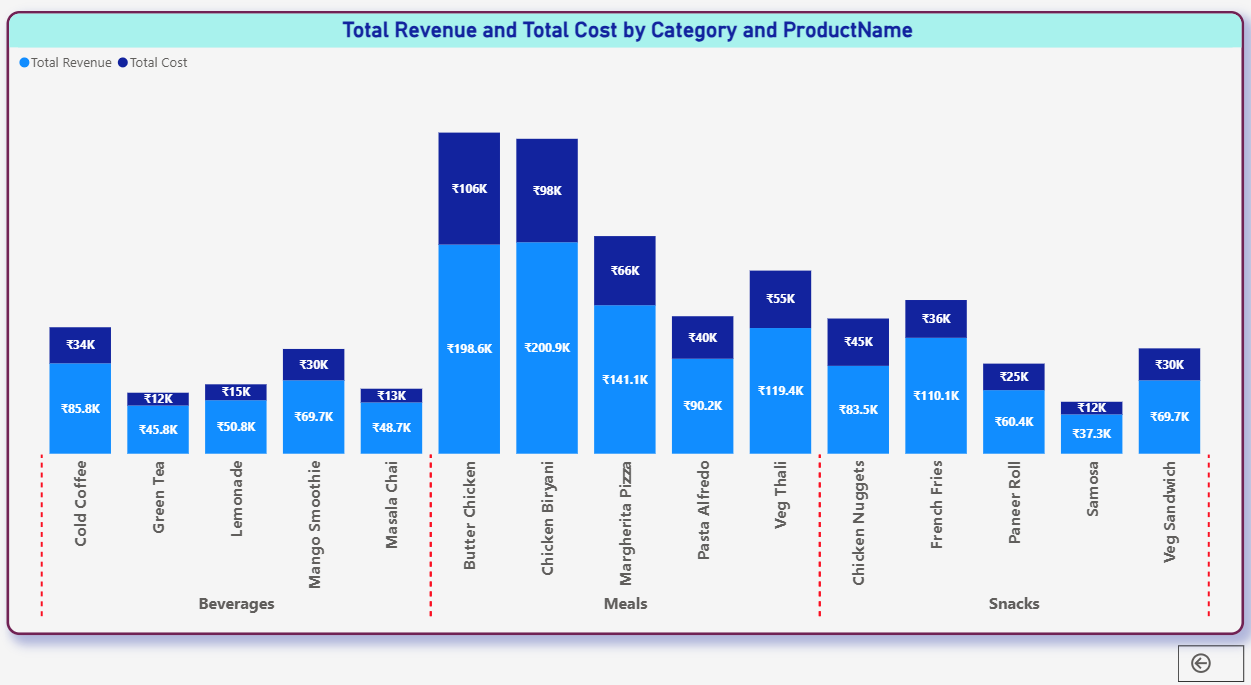

What the dashboard file says about the page in this screenshot:
{"tool":"powerbi","page":{"name":"Revenue and Cost","canvas":[1280,720],"ordinal":2},"visuals":[{"type":"columnChart","fields":{"Category":["tastybites_orders.Category","tastybites_orders.ProductName"],"Y":["tastybites_orders.Total Revenue","tastybites_orders.Total Cost"]},"box":[16.7,33.3,1249.2,629.9],"z":0},{"type":"actionButton","box":[1199.3,673.8,66.6,36.3],"z":3000}]}

Visuals, with their boxes in screenshot pixels (x1, y1, x2, y2), scaled from the page's 1280x720 canvas onto the 1251x685 screenshot:
columnChart - tastybites_orders.Category x tastybites_orders.ProductName: [16, 32, 1237, 631]
actionButton: [1172, 641, 1237, 676]
